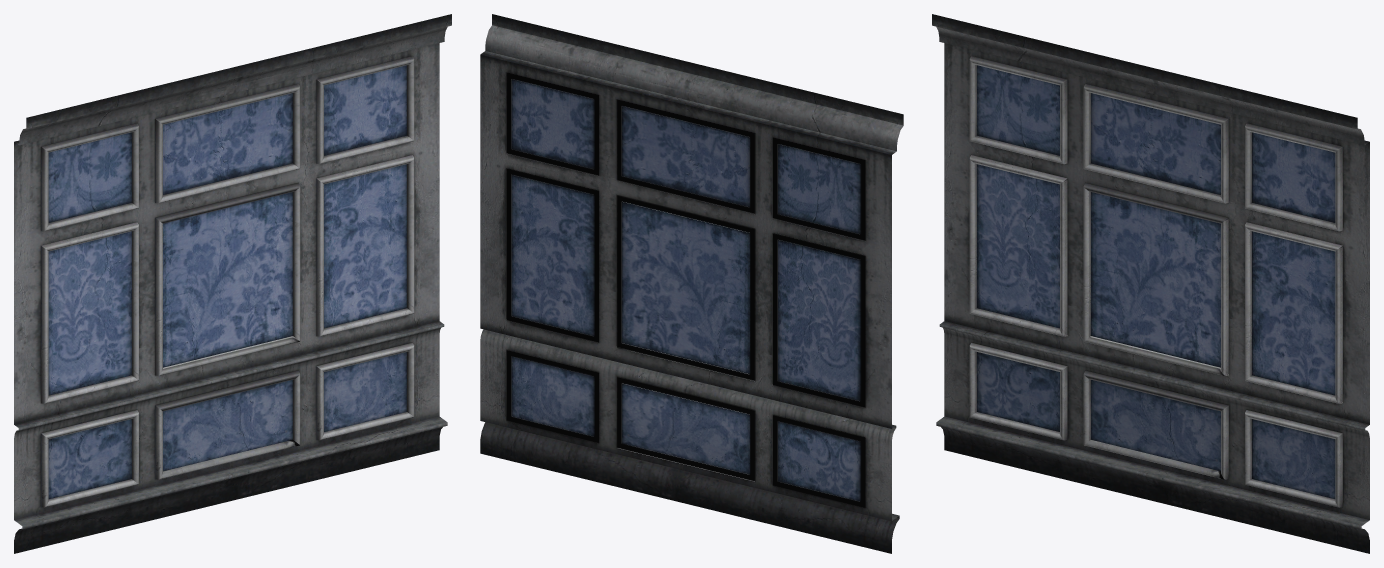
The model's file is default_blue.dae.
3 renders of one model, left to right at view 1: azimuth 30°, elevation 25°; view 2: azimuth 150°, elevation 25°; view 3: azimuth 330°, elevation 25°, orthographic. The views are drawn at different scales.
Visible parts, largest first — view 1: mansionbase_default; view 2: mansionbase_default; view 3: mansionbase_default.
Part boxes in pixels (left/top/right/bottom): mansionbase_default: left=14, top=14, right=451, bottom=553; mansionbase_default: left=480, top=14, right=903, bottom=553; mansionbase_default: left=932, top=14, right=1369, bottom=553.
Bounding box in the file's own units: 4 × 4 × 0.2045.
